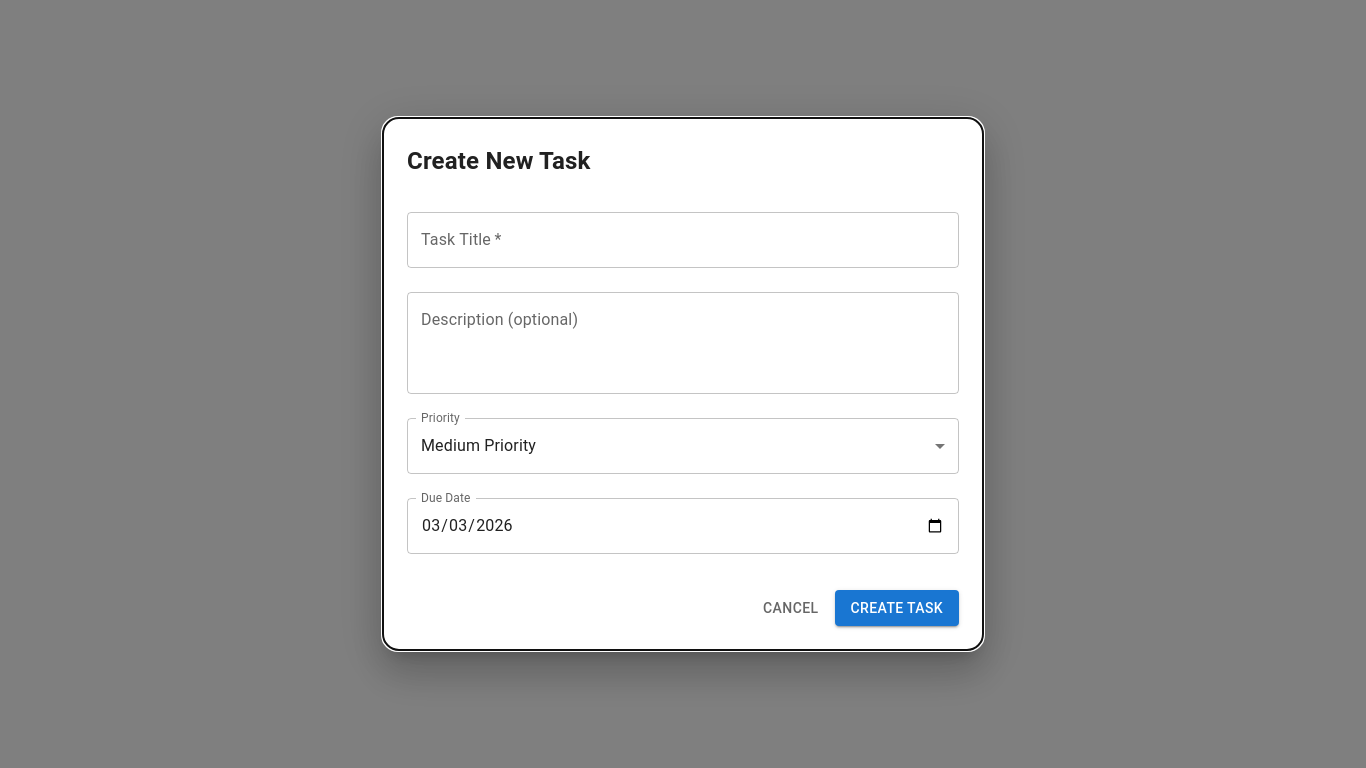
Test: CreateTaskModal › allows changing priority
The image size is (1366, 768).
Open the MUI Select dropdown
Press the mouse on the dropdown labelled "Medium Priority": (479, 446) [421, 436, 536, 455]
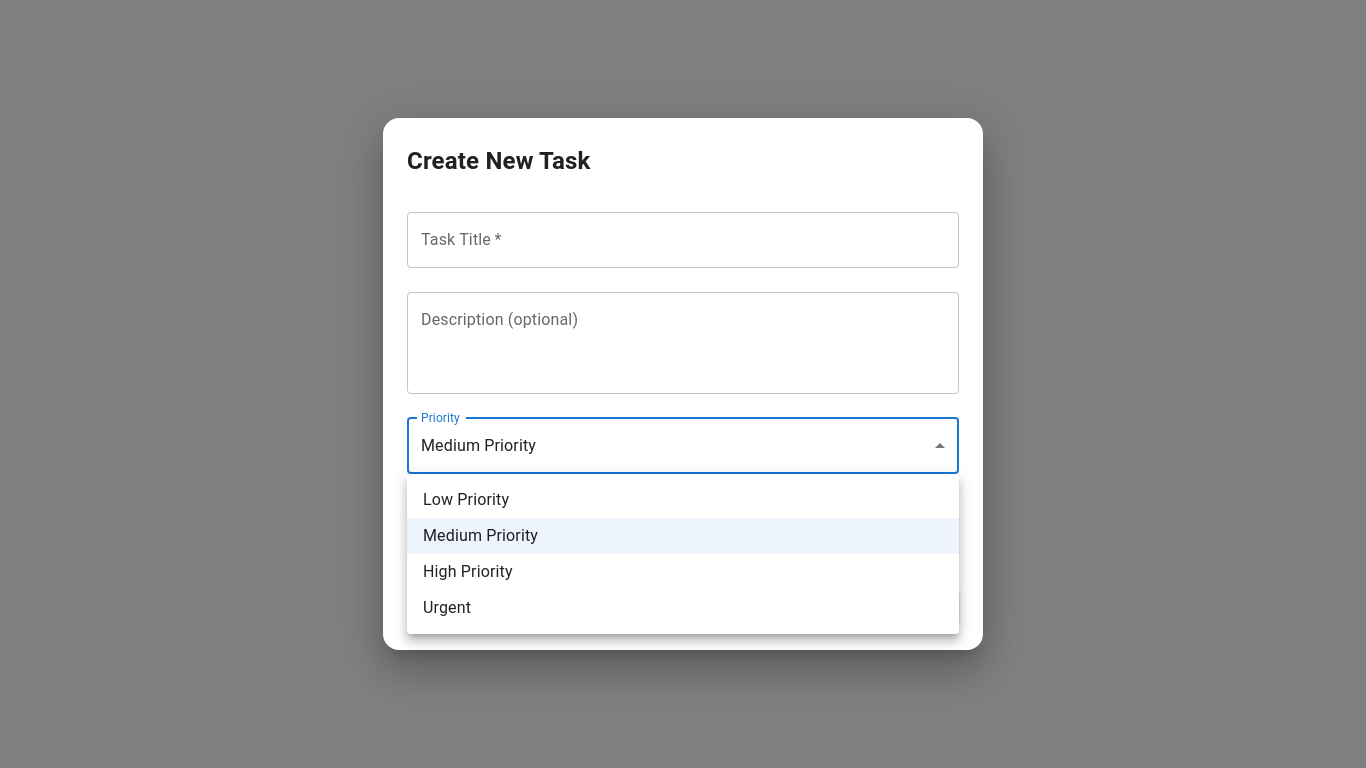
Wait for options to appear and click High Priority
Click the option "High Priority": (468, 572) [423, 562, 513, 581]
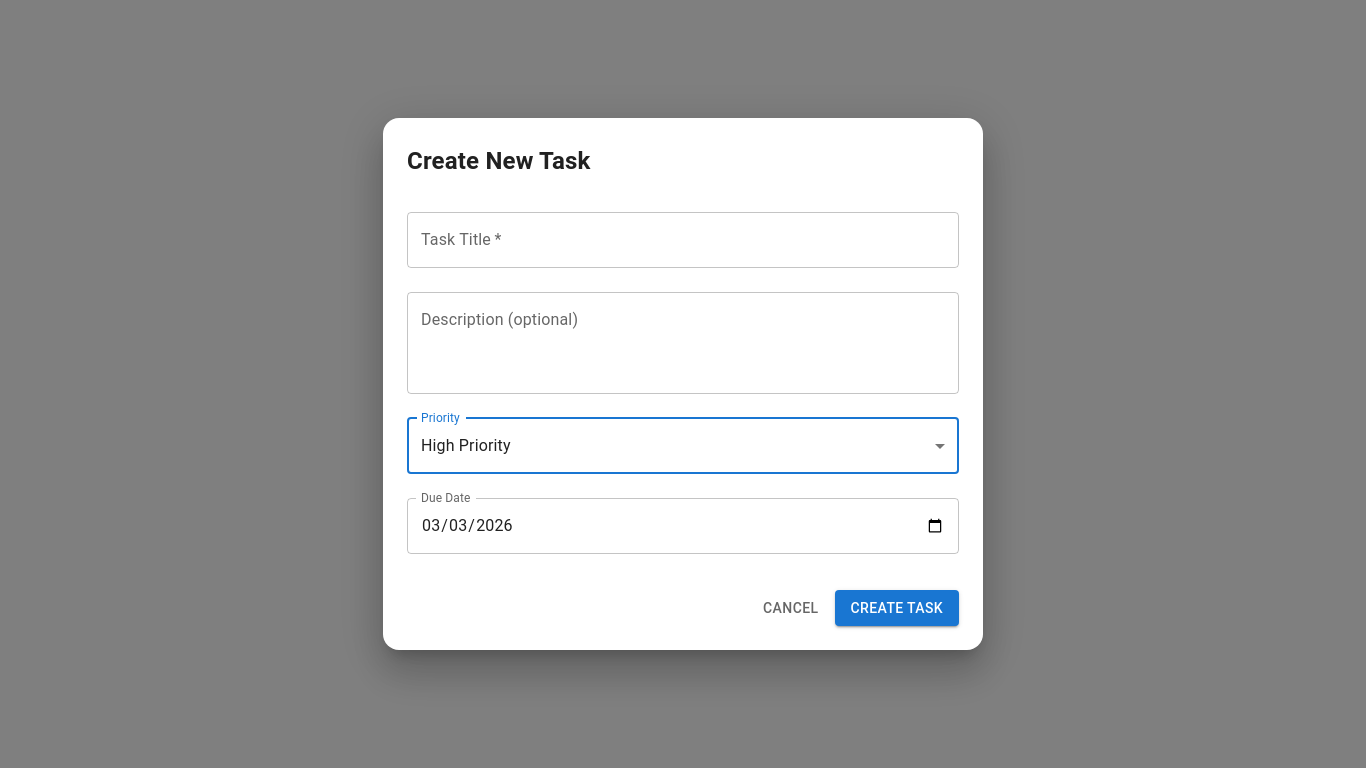
Check: the dropdown labelled "High Priority" is shown, box [421, 436, 511, 455]
